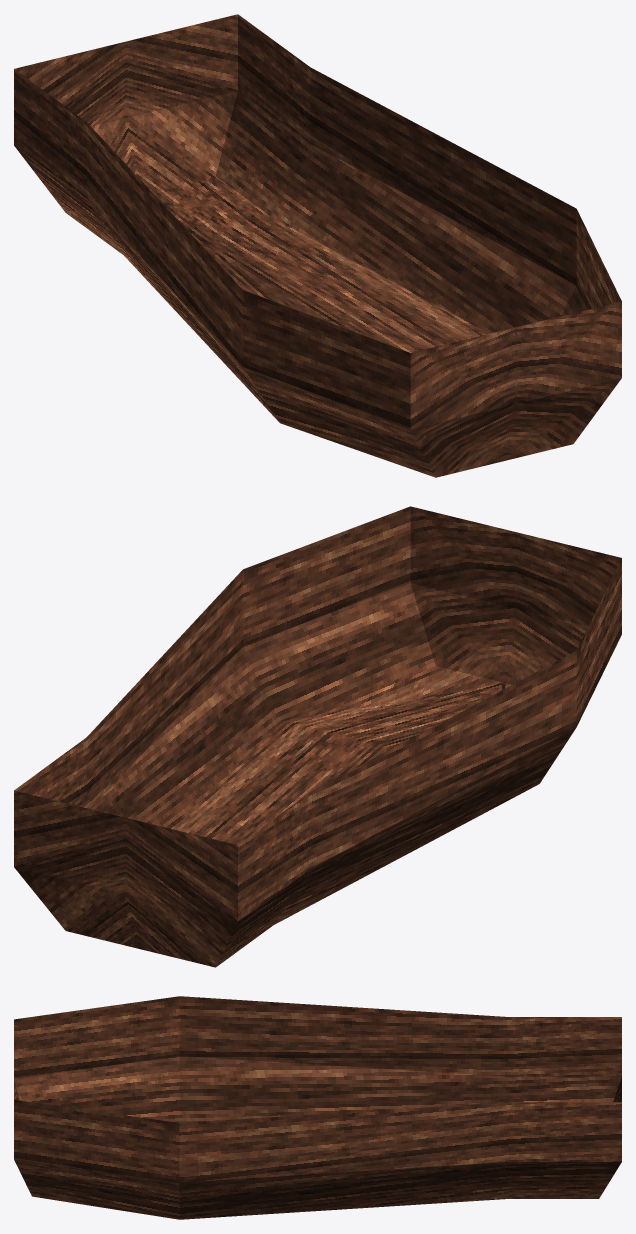
Rendered from casket_open.glb.
The picture shows the model from 3 angles, top to bottom: view 1: azimuth 30°, elevation 25°; view 2: azimuth 150°, elevation 25°; view 3: azimuth 270°, elevation 25°; orthographic projection. The views are drawn at different scales.
Parts seen in each view (by area): view 1: Casket_open; view 2: Casket_open; view 3: Casket_open.
Boxes of the visible parts, x1,y1,x2,y2 form: Casket_open: (14,14,621,477); Casket_open: (14,506,621,967); Casket_open: (14,996,621,1219).
Bounding box in the file's own units: 2.03 × 0.8264 × 4.11.
1 material, 1 textured.
